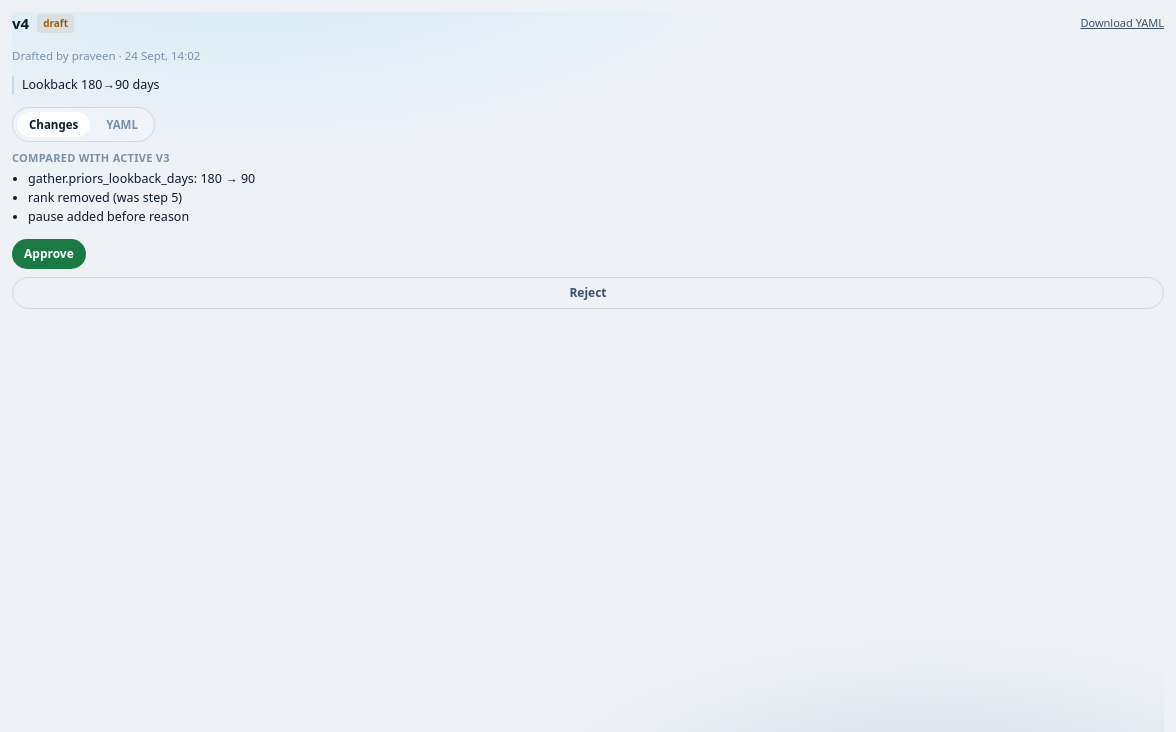
it: VersionDetail › YAML tab › shows Retry when the YAML fails to load
The width and height of the screenshot is (1176, 732).
Click the tab "YAML" at point(122, 124), box [94,112,150,137]
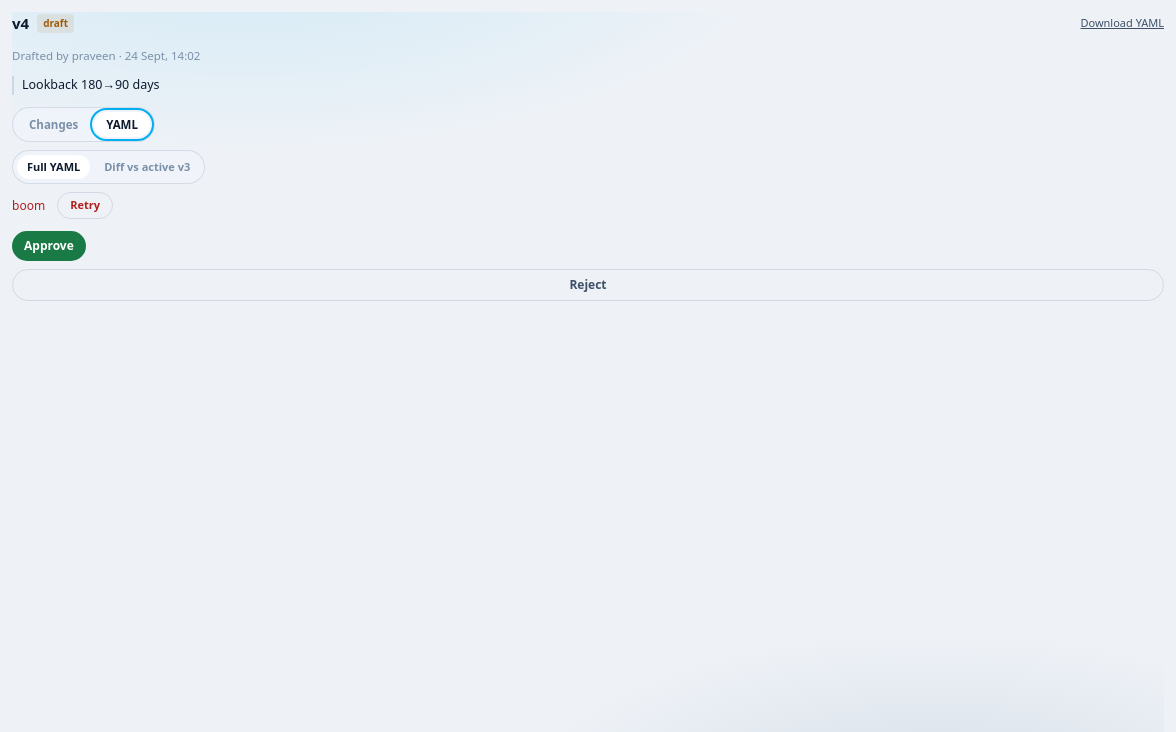
Check: the message reads "boom", box [12,196,45,214]
Click the button "Retry" at point(85, 206), box [57,192,113,219]
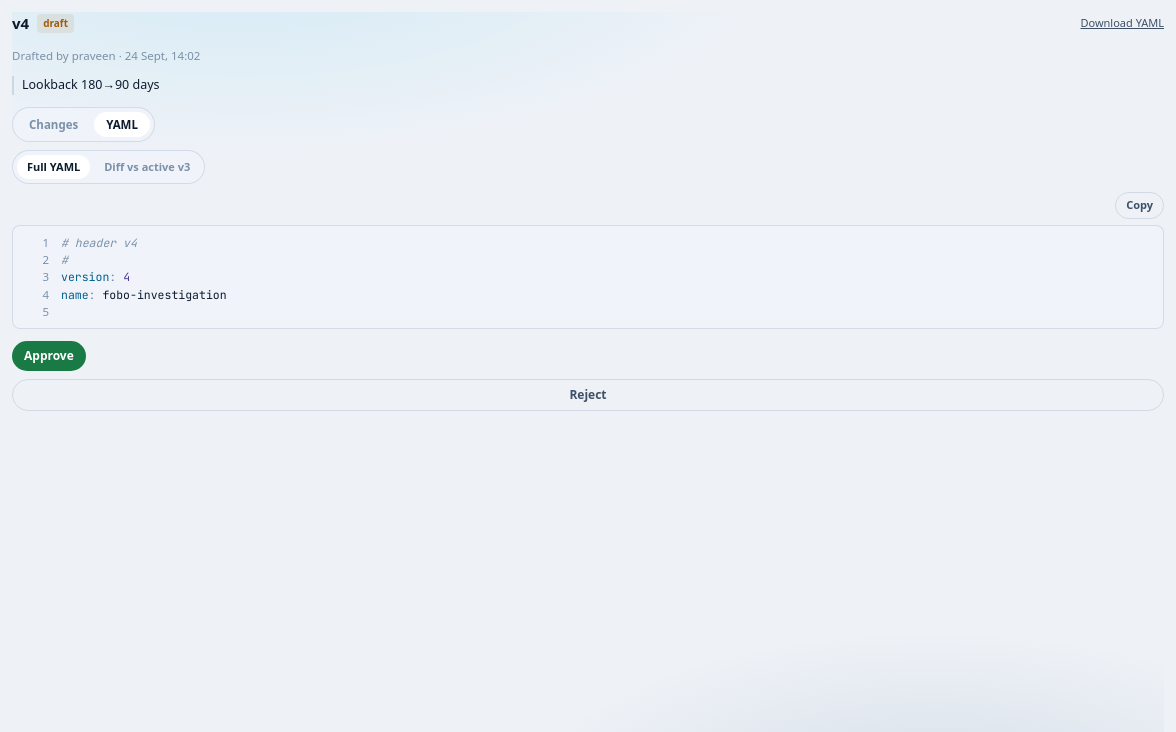
Check: the text "fobo-investigation" is shown, box [102,286,227,302]
